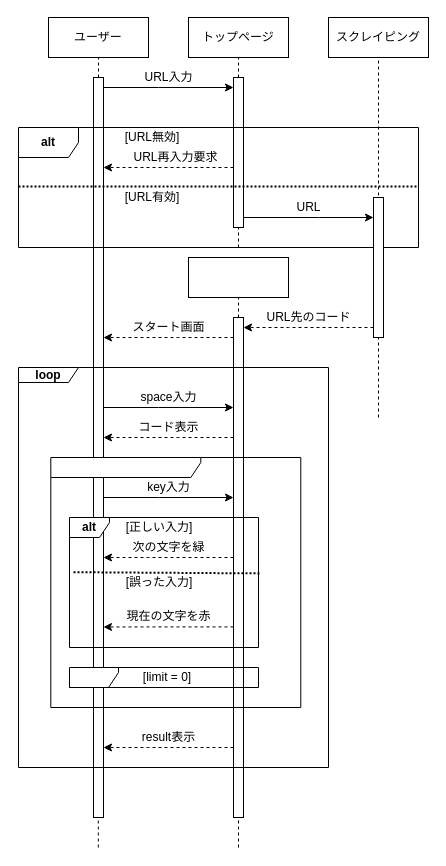
The diagram is 446 pixels wide and 866 high, and some of its shapes have lost their labels. Each missing label, with the box of its shape:
break: (68, 666, 258, 688)
loop[1, コードの文字数]: (50, 456, 301, 708)
タイピング練習 ページ: (188, 256, 288, 298)
